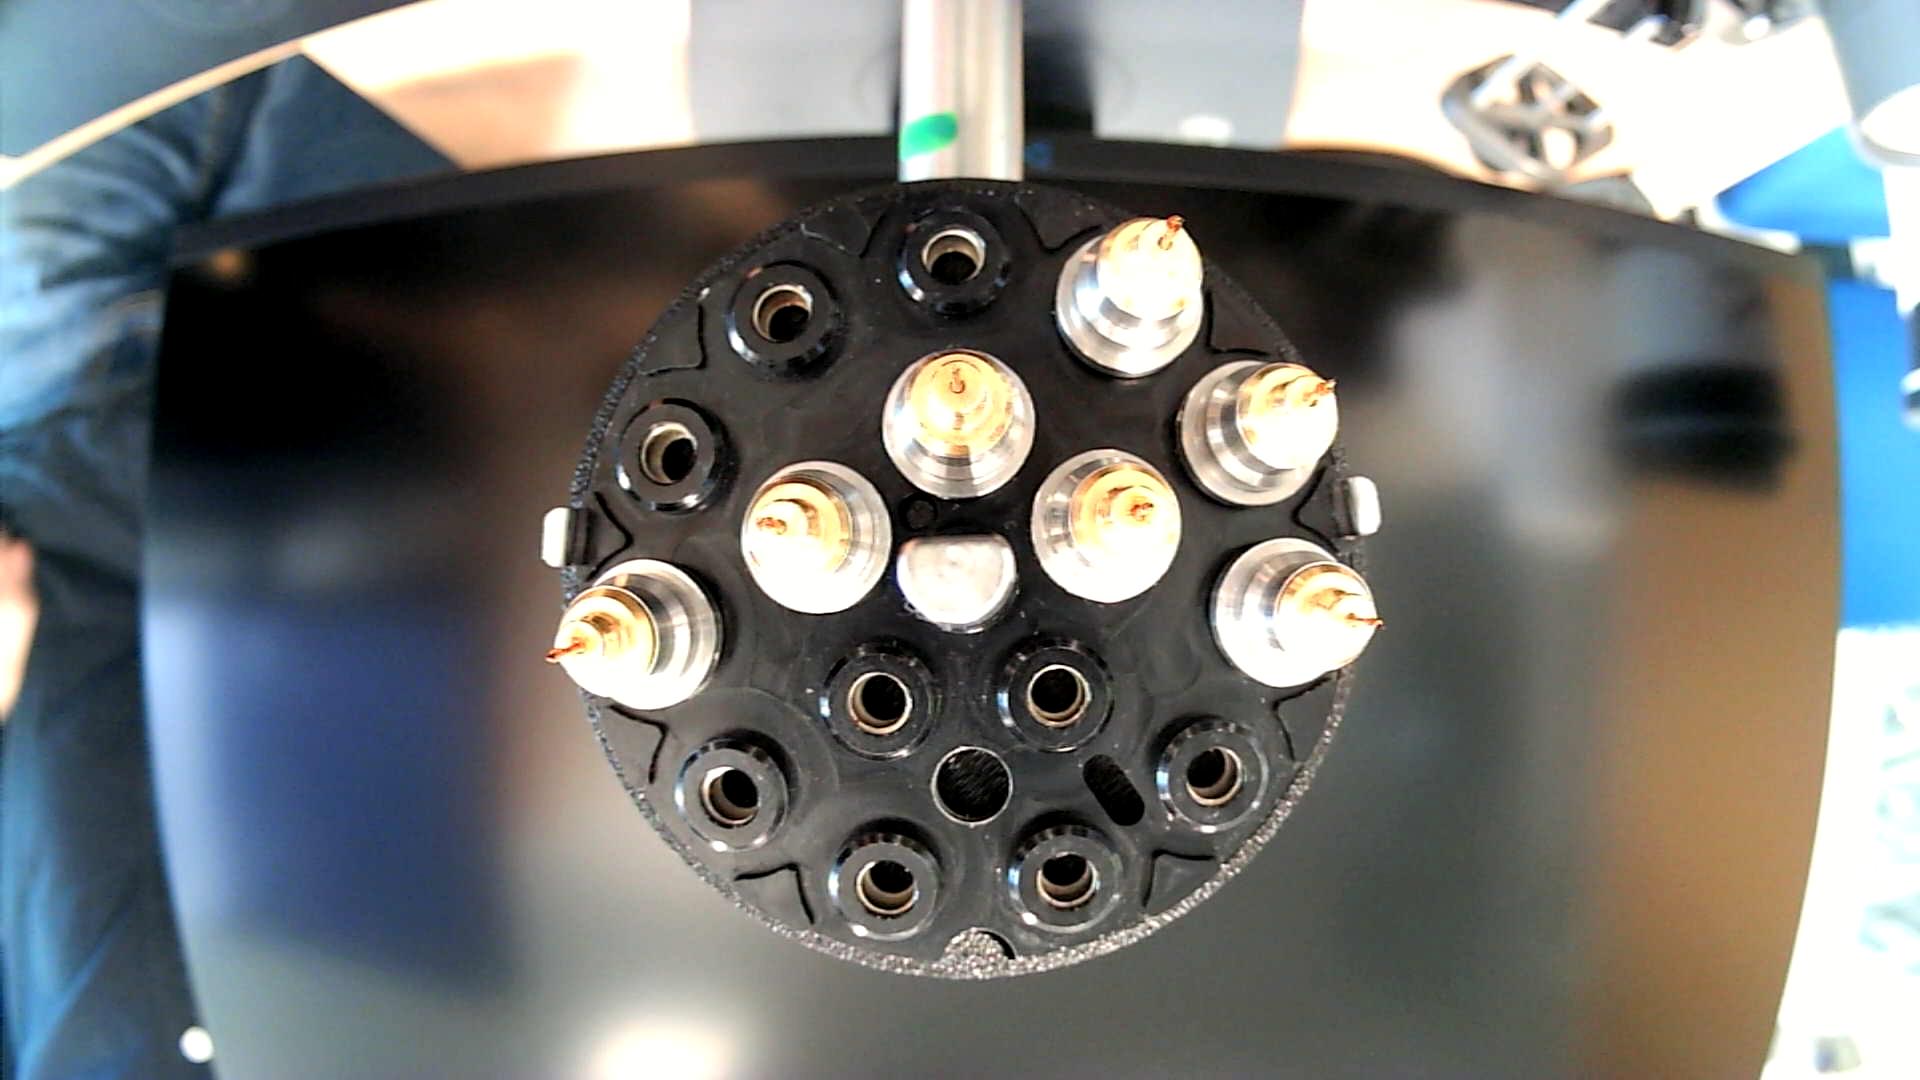empty: (667, 725, 804, 861), (609, 392, 745, 526), (715, 256, 853, 382), (814, 633, 944, 762), (890, 202, 1021, 330), (1002, 814, 1130, 944), (1145, 707, 1271, 837), (996, 633, 1120, 757), (824, 816, 947, 942)
hole: (927, 742, 1015, 829)
pin: (543, 555, 725, 715), (1211, 537, 1385, 694), (1054, 212, 1205, 384), (1179, 359, 1342, 512), (738, 458, 894, 617), (880, 347, 1038, 501), (1030, 448, 1184, 607)
rod: (891, 535, 1025, 637)
